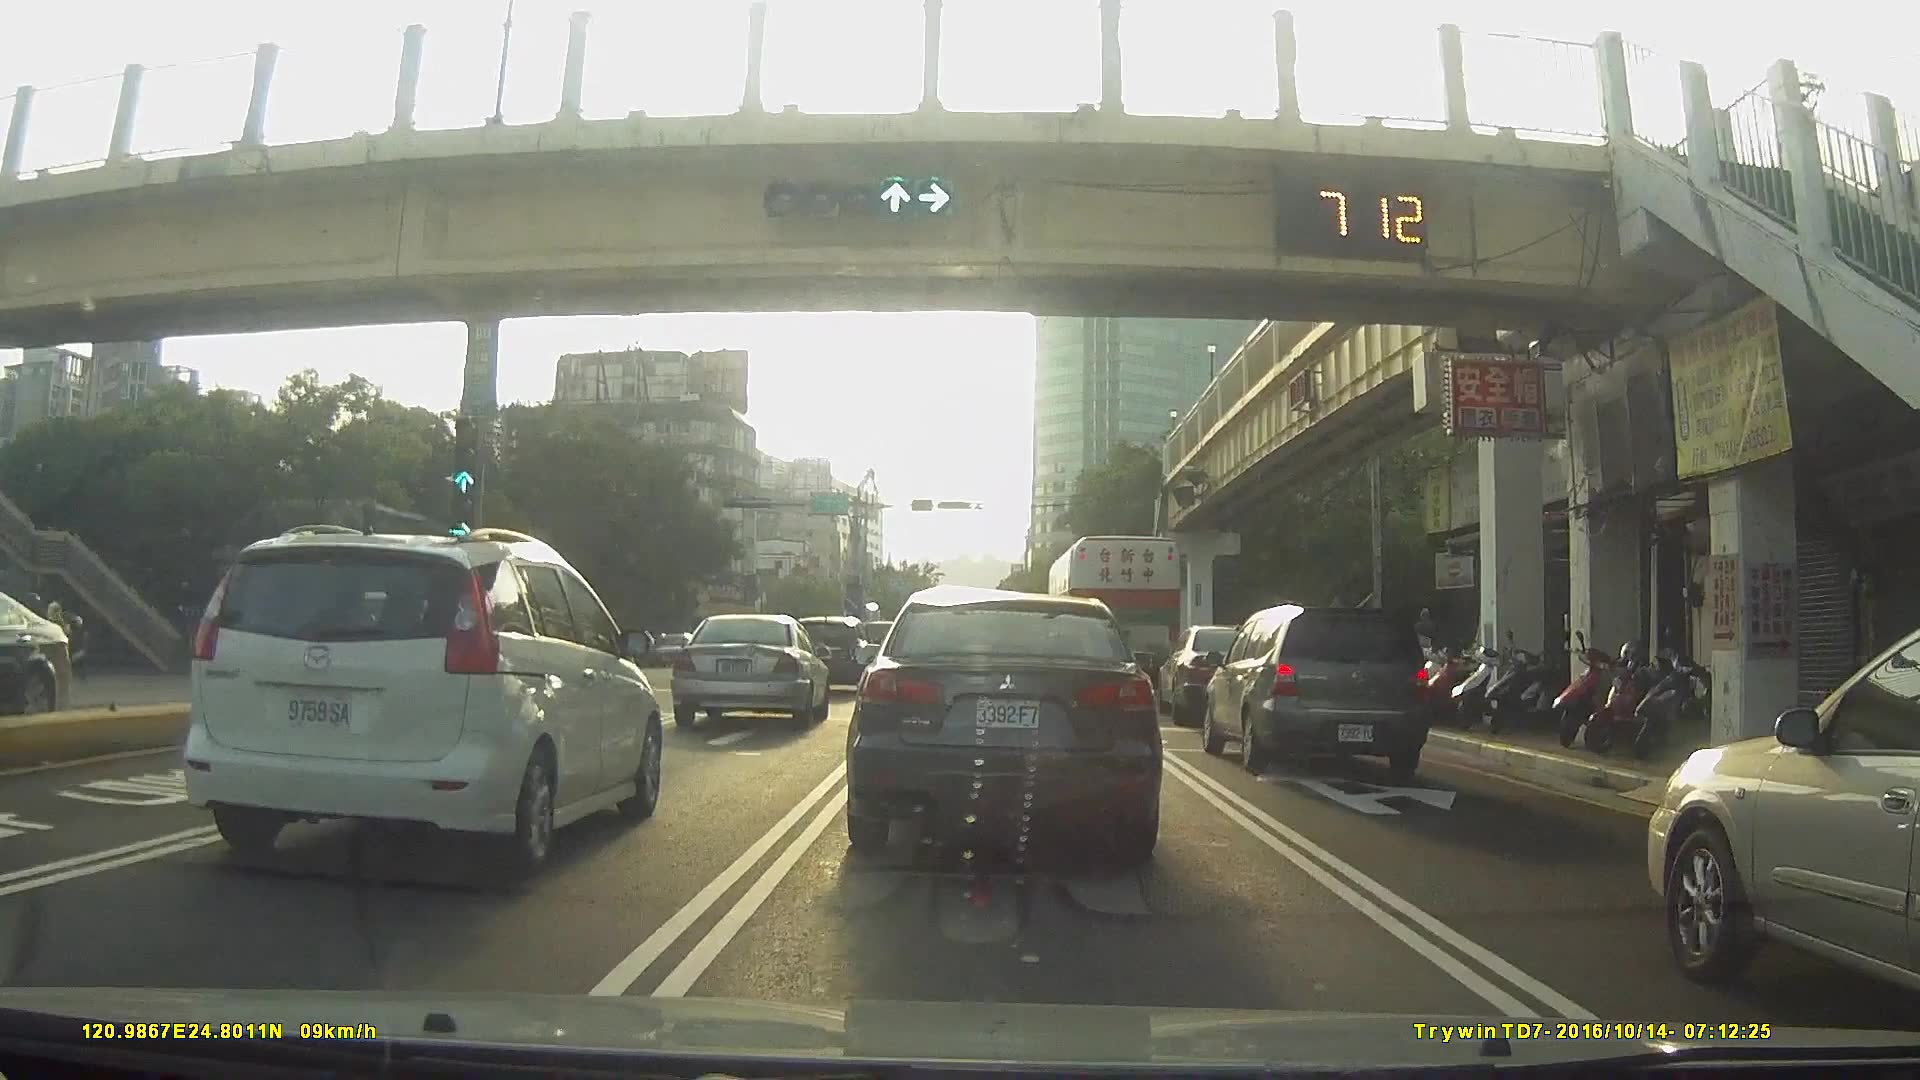vehicle: (171, 524, 665, 876), (1642, 625, 1920, 1000), (845, 585, 1158, 868), (1200, 605, 1432, 786), (1043, 535, 1189, 691), (669, 613, 825, 731), (1156, 621, 1276, 723), (1, 592, 91, 727), (789, 616, 872, 694), (646, 632, 694, 669), (637, 632, 683, 669)
